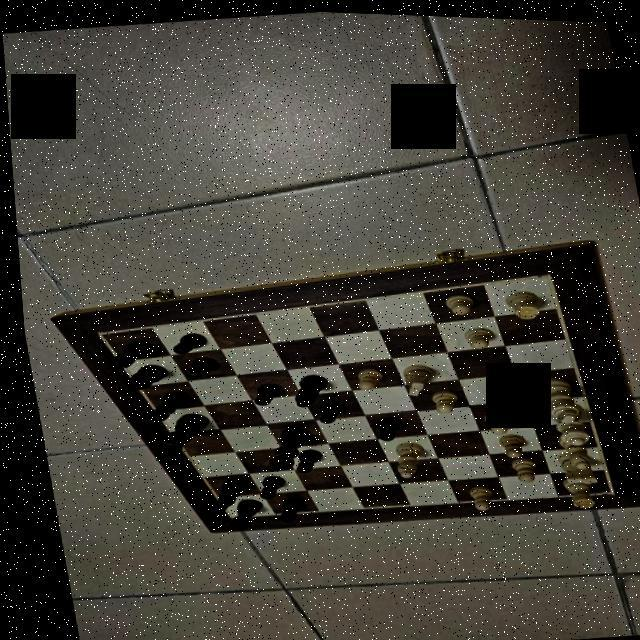chess-table-corners: (594, 481, 616, 494), (534, 265, 555, 278), (90, 328, 107, 338), (218, 512, 226, 518)
